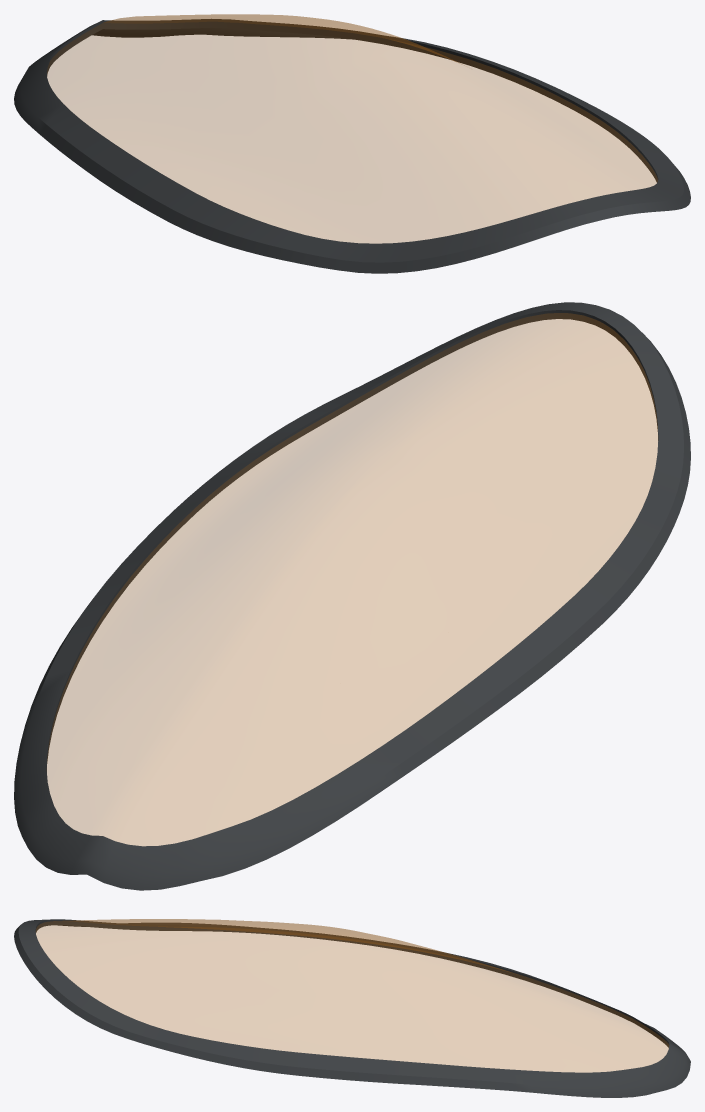
The model's file is Raie-verriere-mobile.glb.
The picture shows the model from 3 angles, top to bottom: view 1: azimuth 30°, elevation 25°; view 2: azimuth 150°, elevation 25°; view 3: azimuth 270°, elevation 25°; orthographic projection. The views are drawn at different scales.
Parts seen in each view (by area): view 1: RaieVerriere; view 2: RaieVerriere; view 3: RaieVerriere.
Part boxes in pixels (<box>): RaieVerriere: <box>14,14,690,273</box>; RaieVerriere: <box>14,302,690,890</box>; RaieVerriere: <box>14,919,690,1097</box>.
Bounding box in the file's own units: 2.53 × 1.19 × 5.18.
